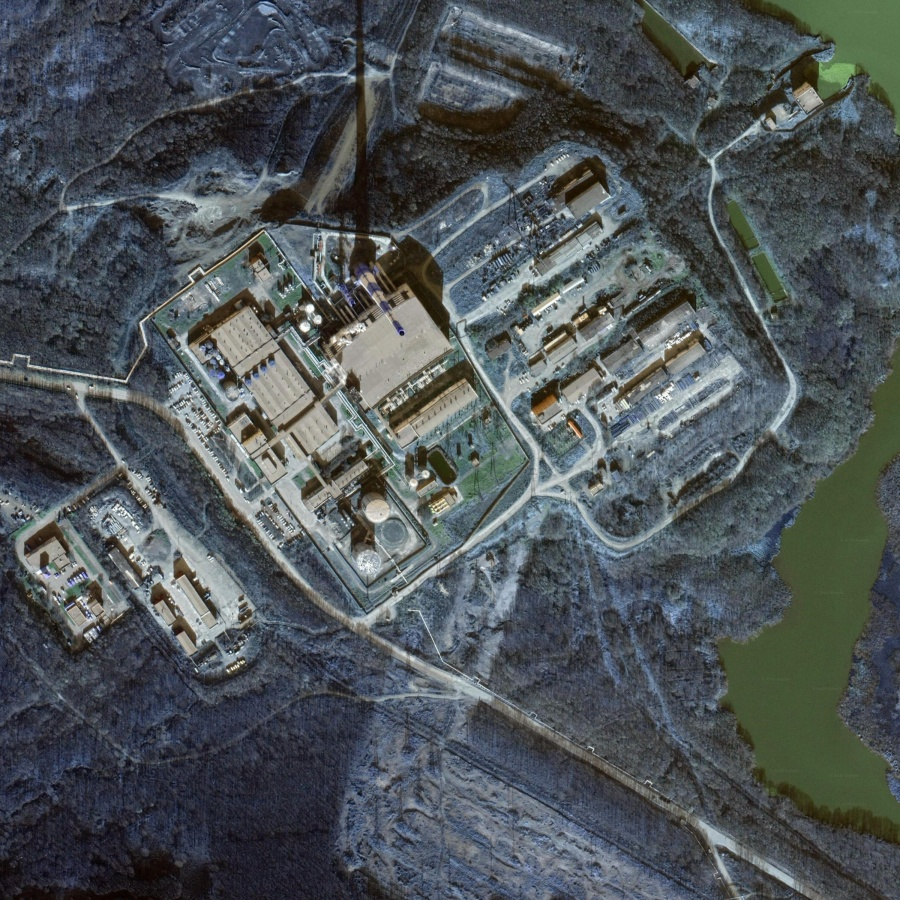PowerPlant: (186, 215, 501, 579)
